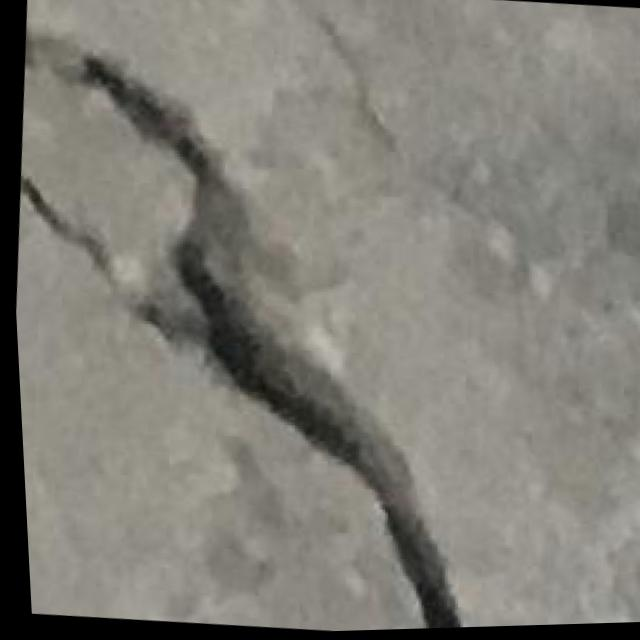Crack: (1, 20, 524, 640)
